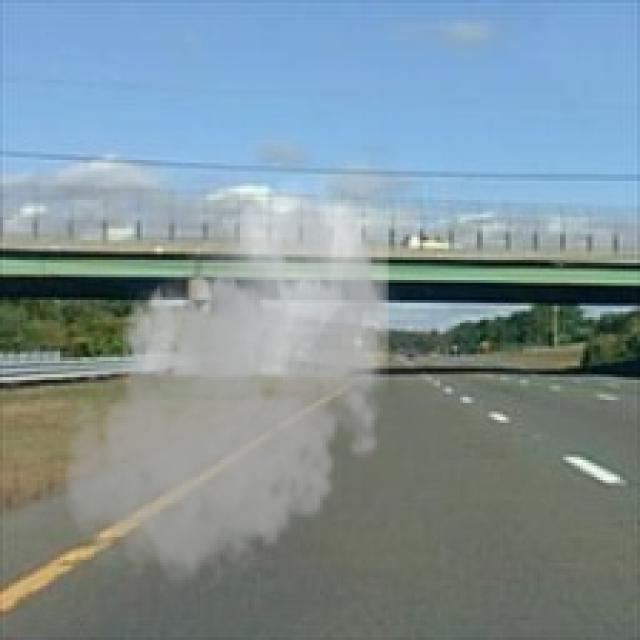smoke: (57, 174, 403, 600)
